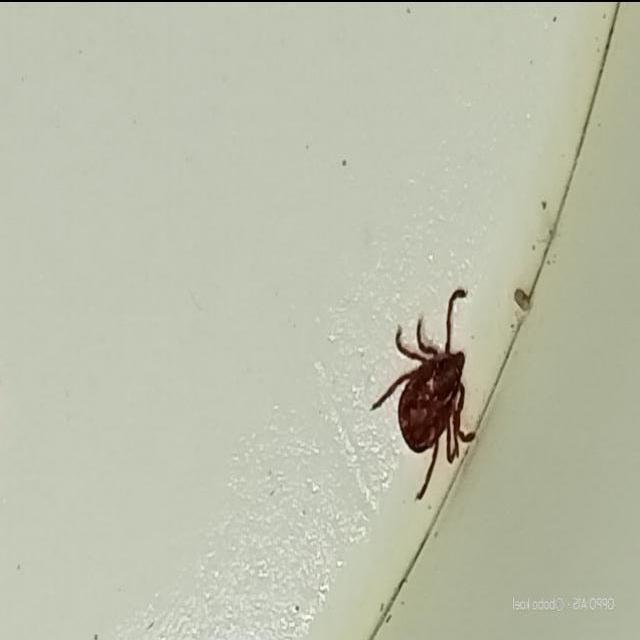Rhipicephalus Sanguineus-F: (372, 287, 476, 500)
